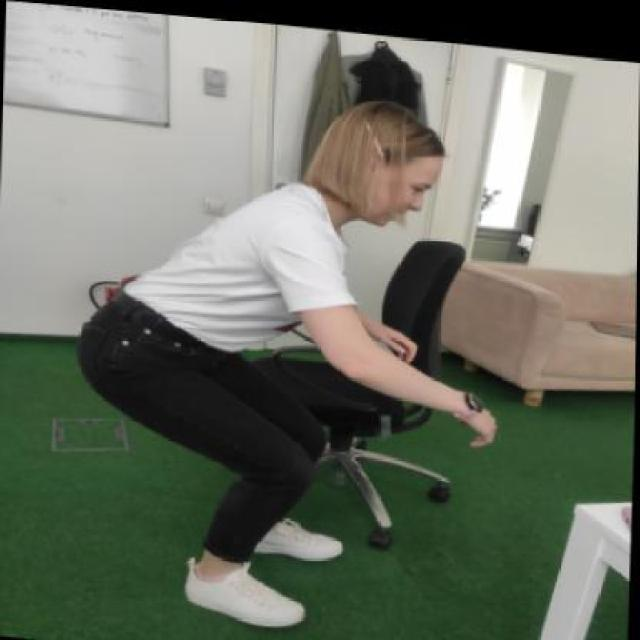chair: (202, 194, 481, 556)
